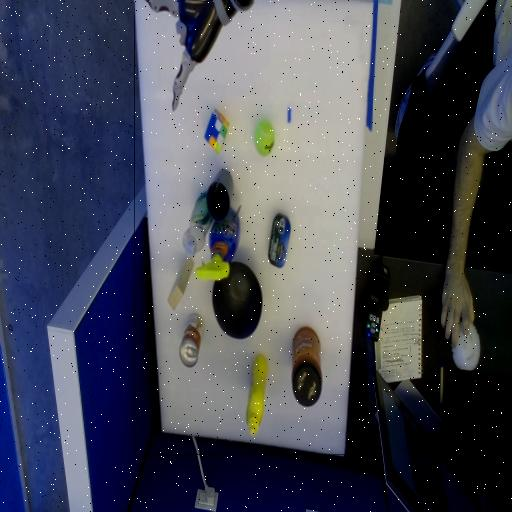bowl: (210, 275, 261, 326)
cleanser: (182, 210, 213, 241)
coffee_can: (291, 328, 320, 407)
jaco: (146, 1, 221, 110)
meat_can: (267, 214, 289, 268)
mug: (206, 171, 232, 221)
mustard_bottle: (246, 356, 266, 435)
rubik: (203, 111, 227, 153)
soup_can: (179, 330, 202, 353)
tennis_ball: (254, 128, 274, 147)
windex: (195, 214, 239, 280)
wooden_block: (167, 260, 192, 311)
workspace: (134, 2, 373, 454)
